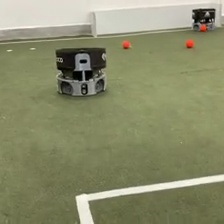ball: (185, 38, 193, 47), (121, 39, 129, 48), (199, 25, 205, 31)
goal: (89, 2, 222, 38)
robot: (53, 45, 107, 99), (190, 6, 216, 31)
